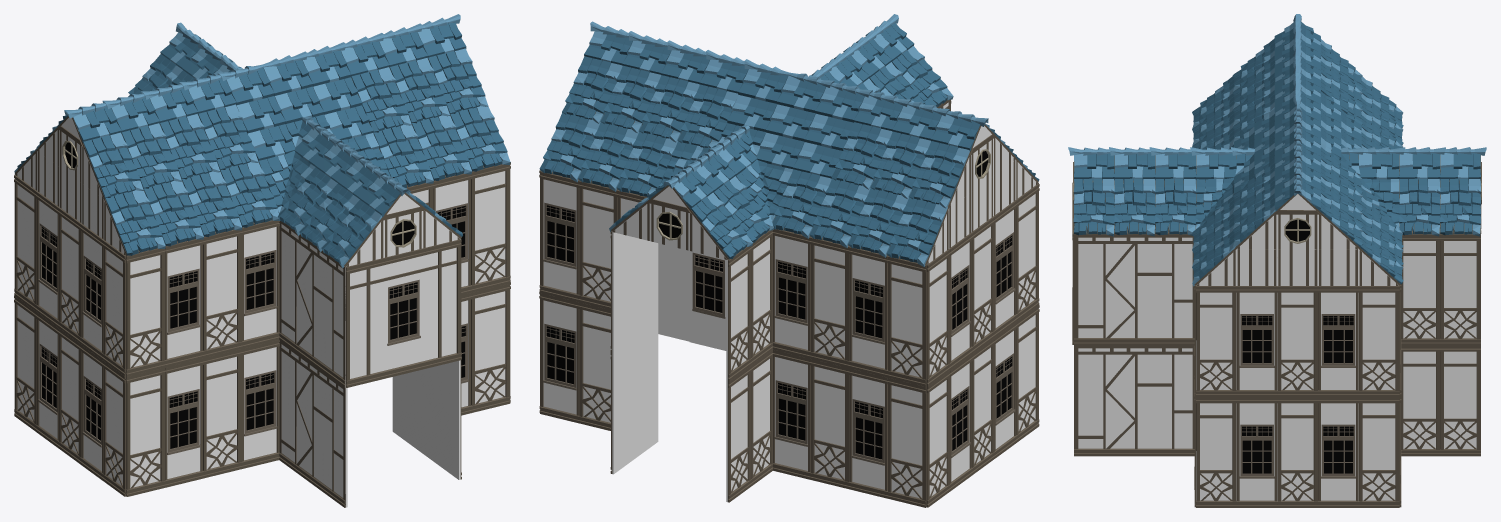
Rendered from House_18_parts.fbx.
The picture shows the model from 3 angles, left to right: view 1: azimuth 30°, elevation 25°; view 2: azimuth 150°, elevation 25°; view 3: azimuth 270°, elevation 25°; orthographic projection. The views are drawn at different scales.
Visible parts, largest first — view 1: WINDOW_03_2, WALL_05_2, WALL_05_3, WALL_05_5, WALL_04_5, WALL_04_4, WALL_04_9, WALL_04_6, WALL_04_10, WALL_04_3, WINDOW_04_5, WINDOW_04_6 (+62 smaller); view 2: WALL_04_17, WALL_04_18, WINDOW_04_15, WALL_04_19, WALL_04_20, WINDOW_04_19, WINDOW_04_16, WINDOW_04_20, WINDOW_04_14, WINDOW_04_13, WALL_04_22, WALL_04_21 (+68 smaller); view 3: WALL_05_5, WALL_05_4, WINDOW_04_21, WALL_04_24, WALL_04_27, WINDOW_04_24, WALL_04_23, WINDOW_04_22, WALL_04_25, WALL_04_34, WALL_04_36, WALL_04_26 (+53 smaller).
Boxes of the visible parts, x1,y1,x2,y2 form: WINDOW_03_2: (345, 239, 461, 387); WALL_05_2: (279, 340, 347, 507); WALL_05_3: (279, 221, 345, 387); WALL_05_5: (392, 360, 461, 479); WALL_04_5: (126, 248, 165, 376); WALL_04_4: (126, 367, 165, 496); WALL_04_9: (471, 164, 510, 292); WALL_04_6: (203, 229, 241, 357); WALL_04_10: (471, 283, 510, 412); WALL_04_3: (203, 349, 241, 478); WINDOW_04_5: (165, 239, 203, 367); WINDOW_04_6: (241, 220, 279, 348); WALL_04_17: (810, 237, 849, 367); WALL_04_18: (810, 358, 849, 488); WINDOW_04_15: (848, 246, 887, 377); WALL_04_19: (887, 256, 926, 386); WALL_04_20: (887, 377, 926, 507); WINDOW_04_19: (540, 171, 579, 301); WINDOW_04_16: (848, 368, 887, 498); WINDOW_04_20: (540, 293, 579, 423); WINDOW_04_14: (772, 229, 810, 358); WINDOW_04_13: (772, 349, 810, 479); WALL_04_22: (578, 180, 617, 309); WALL_04_21: (578, 302, 611, 430); WALL_05_5: (1074, 345, 1194, 456); WALL_05_4: (1074, 234, 1194, 345); WINDOW_04_21: (1236, 286, 1277, 397); WALL_04_24: (1277, 286, 1318, 397); WALL_04_27: (1277, 397, 1318, 507); WINDOW_04_24: (1236, 397, 1277, 507); WALL_04_23: (1196, 286, 1236, 397); WINDOW_04_22: (1318, 286, 1358, 397); WALL_04_25: (1359, 286, 1399, 397); WALL_04_34: (1440, 345, 1480, 456); WALL_04_36: (1440, 234, 1480, 345); WALL_04_26: (1359, 397, 1399, 507).
Bounding box in the file's own units: 1029 × 865 × 1029.
